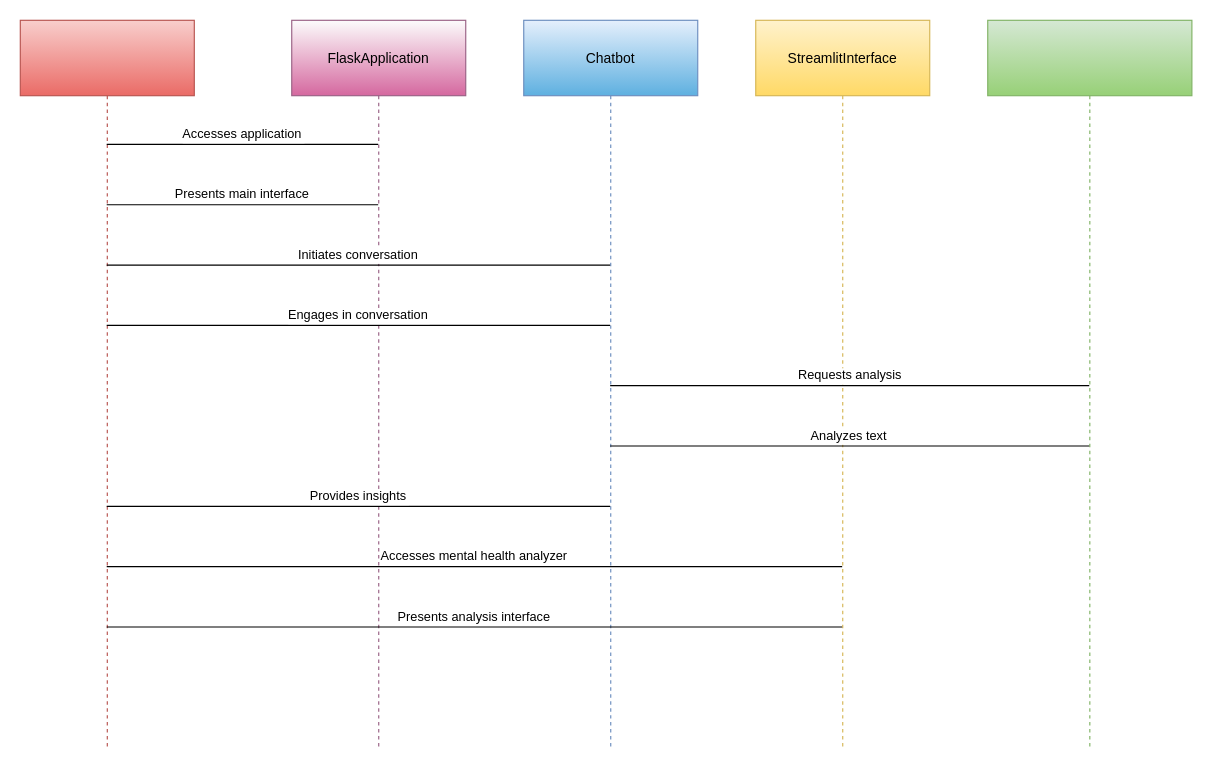
This 1212x769 diagram has some shape labels left out. The box of each missing label's shape, as (x1, y1, x2, y2) in pixels:
MentalHealthAnalyzer: (987, 19, 1192, 749)
User: (19, 19, 194, 749)
